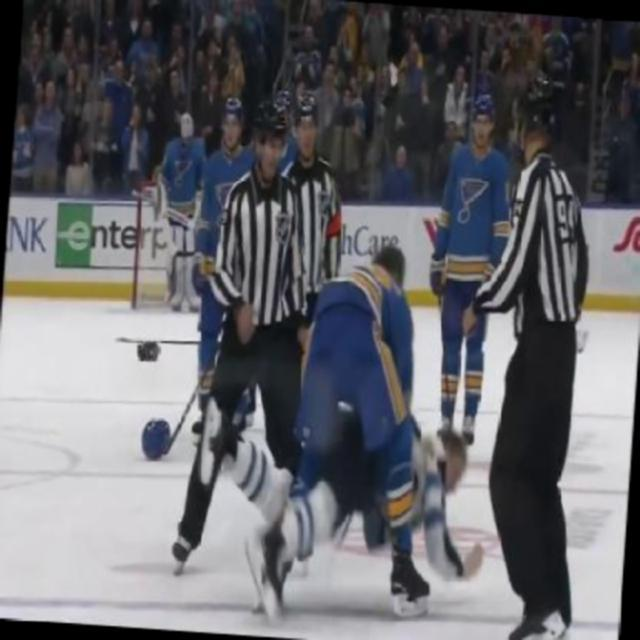fight: (274, 240, 488, 626)
non-fight: (456, 94, 618, 638), (196, 98, 316, 536), (414, 82, 504, 428)
